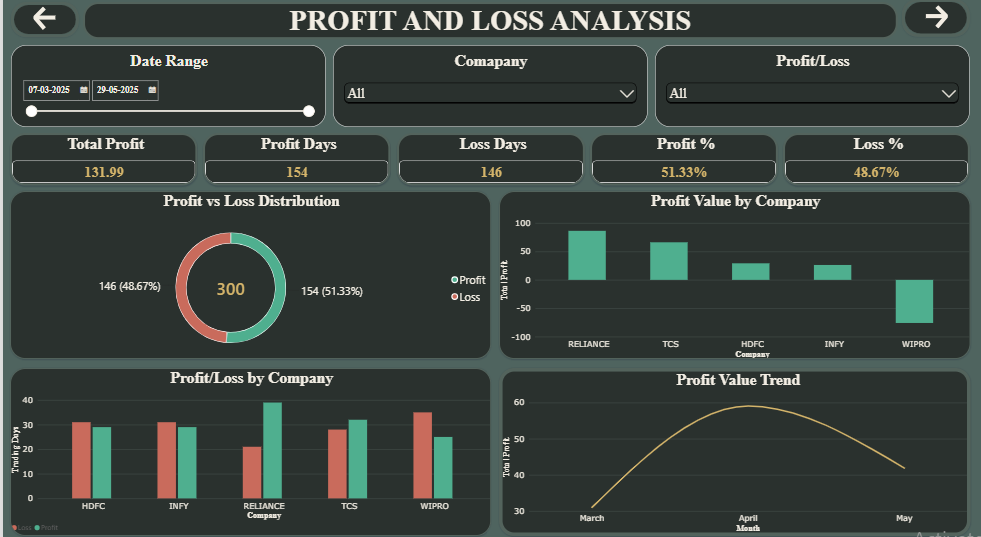

The dashboard page shown, as its layout file describes it:
{"tool":"powerbi","page":{"name":"Profit & Loss Analysis","canvas":[1920,1080],"ordinal":2},"visuals":[{"type":"textbox","box":[157.6,13.1,1600,72.7],"z":0},{"type":"slicer","title":"Date Range","fields":{"Values":["Date_table.Date"]},"box":[15.5,99.1,618.2,160.7],"z":1000},{"type":"slicer","title":"Comapany","fields":{"Values":["Company.Company"]},"box":[648.2,99.1,618.2,160.7],"z":2000},{"type":"slicer","title":"Profit/Loss","fields":{"Values":["stock_market_dataset.Profit_Loss"]},"box":[1280,99.1,618.2,160.7],"z":3000},{"type":"donutChart","title":"Profit vs Loss Distribution","fields":{"Y":["CountNonNull(stock_market_dataset.Date)"],"Category":["stock_market_dataset.Profit_Loss"]},"box":[14.3,385.7,945,330],"z":4000},{"type":"clusteredColumnChart","title":"Profit Value by Company","fields":{"Category":["Company.Company"],"Y":["Company.Total Profit"]},"box":[974.3,385.7,925.7,330],"z":5000},{"type":"clusteredColumnChart","title":"Profit/Loss by Company","fields":{"Category":["Company.Company"],"Series":["stock_market_dataset.Profit_Loss"],"Y":["Company.Trading Days"]},"box":[14.3,732.9,945,330],"z":6000},{"type":"lineChart","title":"Profit Value Trend","fields":{"Category":["Date_table.Date.Variation.Date Hierarchy.Month","Date_table.Date.Variation.Date Hierarchy.Day"],"Y":["Company.Total Profit"]},"box":[974.3,732.9,925.7,330],"z":7000},{"type":"cardVisual","title":"Total Profit","fields":{"Data":["Company.Total Profit"]},"box":[14.5,270.9,368.2,102.7],"z":8000},{"type":"cardVisual","title":"Profit Days","fields":{"Data":["Company.Profit Days"]},"box":[392.7,270.9,368.2,102.7],"z":9000},{"type":"cardVisual","title":"Loss Days","fields":{"Data":["Company.Loss Days"]},"box":[772.7,270.9,369.1,102.7],"z":10000},{"type":"cardVisual","title":"Profit %","fields":{"Data":["Company.Profit %"]},"box":[1152.7,270.9,369.1,102.7],"z":11000},{"type":"cardVisual","title":"Loss %","fields":{"Data":["Company.Loss %"]},"box":[1530.9,270.9,367.3,102.7],"z":12000},{"type":"actionButton","box":[1764.6,8.1,133.3,73.7],"z":13000},{"type":"actionButton","box":[16.2,13.1,133.3,68.7],"z":14000}]}

Visuals, with their boxes in screenshot pixels (x1, y1, x2, y2), scaled from the page's 1920x1080 canvas onto the 981x537 screenshot:
textbox: 81:7:898:43
"Date Range" slicer: 8:49:324:129
"Comapany" slicer: 331:49:647:129
"Profit/Loss" slicer: 654:49:970:129
"Profit vs Loss Distribution" donutChart: 7:192:490:356
"Profit Value by Company" clusteredColumnChart: 498:192:971:356
"Profit/Loss by Company" clusteredColumnChart: 7:364:490:528
"Profit Value Trend" lineChart: 498:364:971:528
"Total Profit" cardVisual: 7:135:196:186
"Profit Days" cardVisual: 201:135:389:186
"Loss Days" cardVisual: 395:135:583:186
"Profit %" cardVisual: 589:135:778:186
"Loss %" cardVisual: 782:135:970:186
actionButton: 902:4:970:41
actionButton: 8:7:76:41
